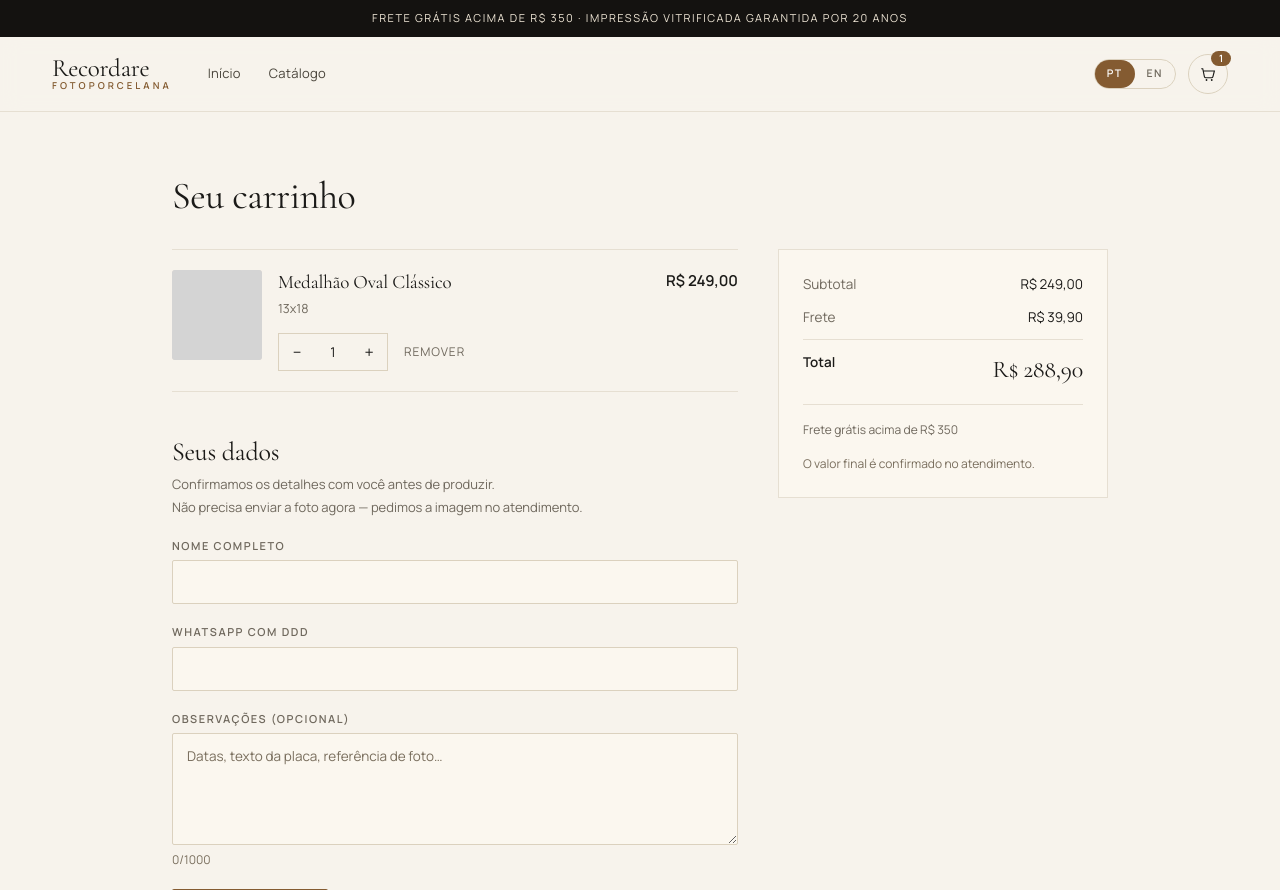
Test: checkout › esconde o atalho do WhatsApp quando o número não está configurado
The width and height of the screenshot is (1280, 890).
Type "Maria Silva" into the field labelled "Nome completo" at [455, 582], box [172, 560, 738, 604]
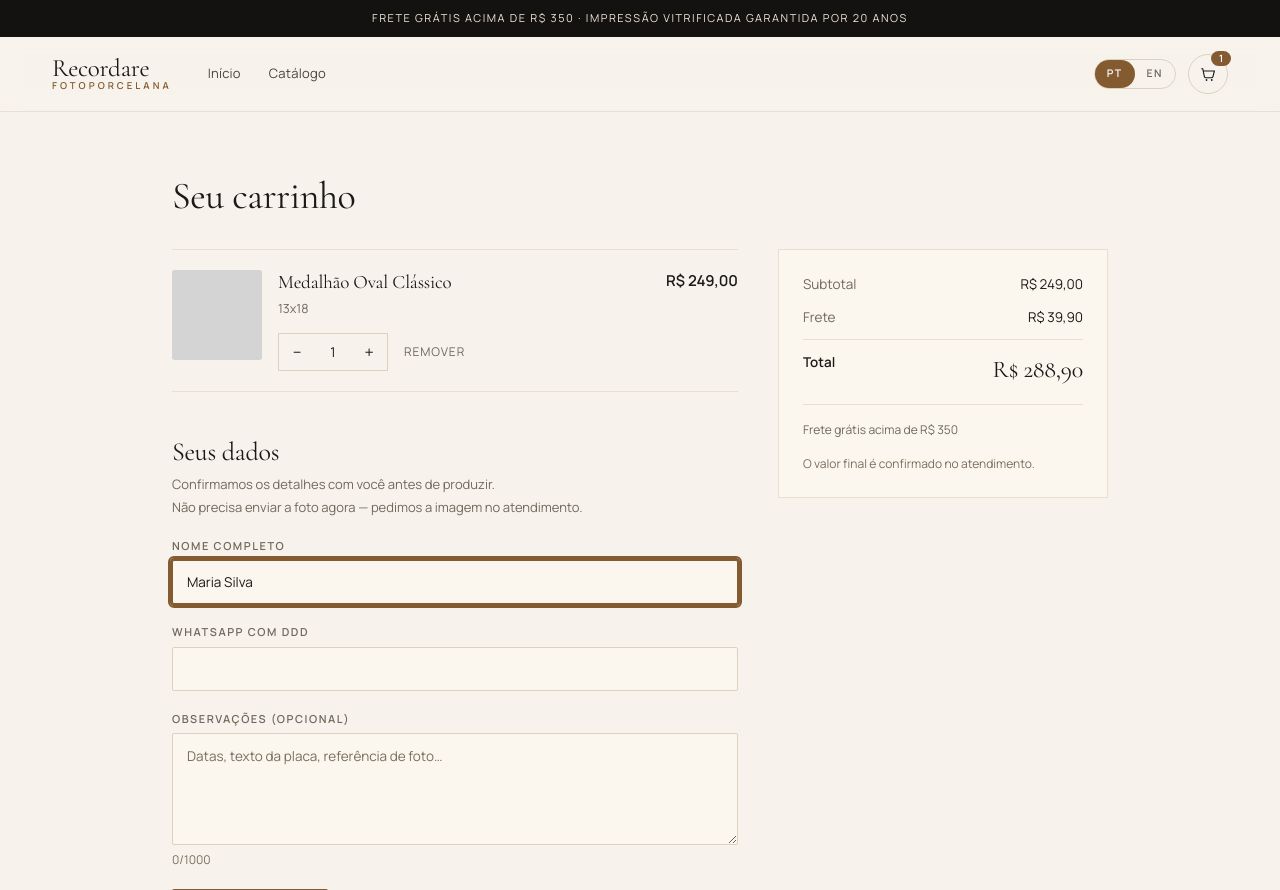
Type "44999990000" into the field labelled "WhatsApp com DDD" at [455, 669], box [172, 647, 738, 691]
(page scrolled)
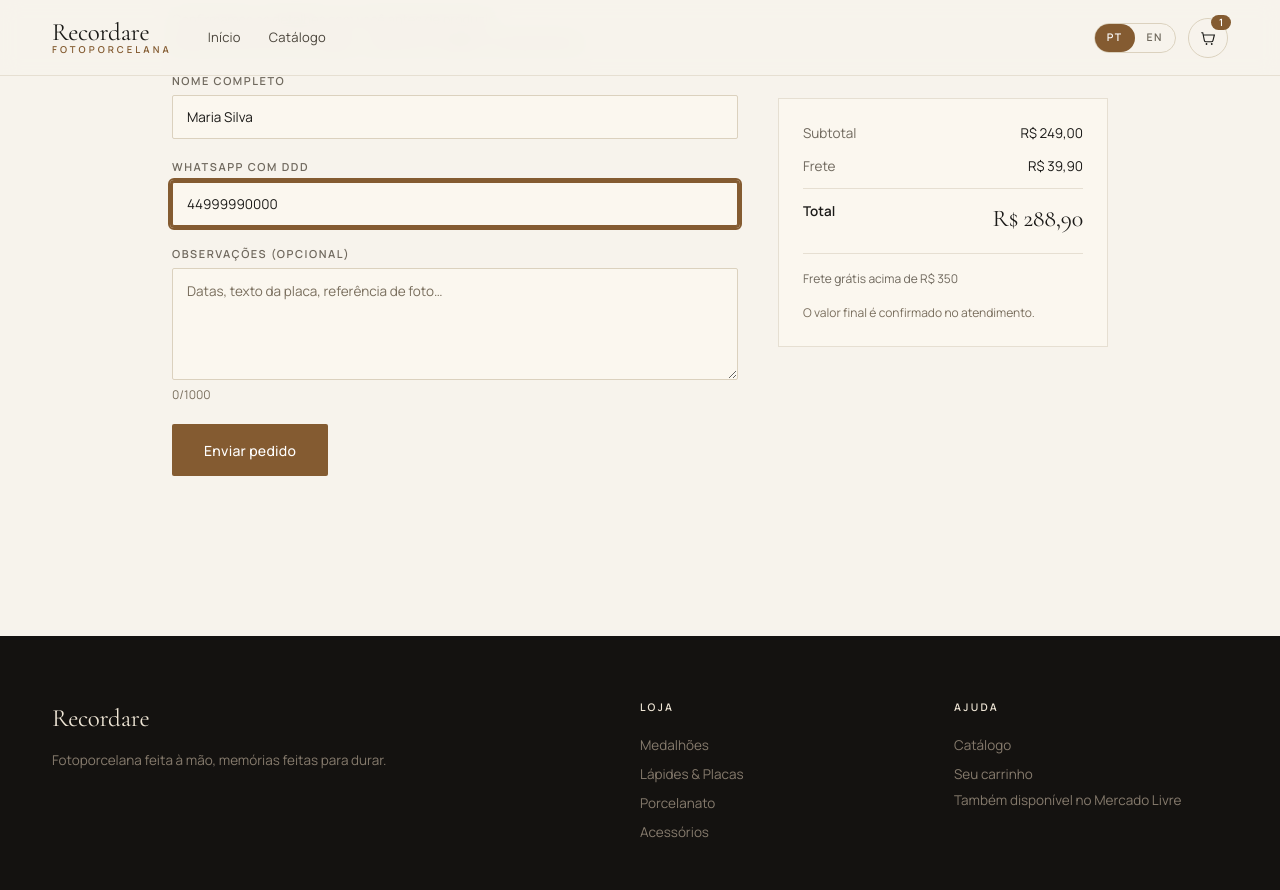
Click the button "Enviar pedido" at [250, 450], box [172, 424, 328, 476]
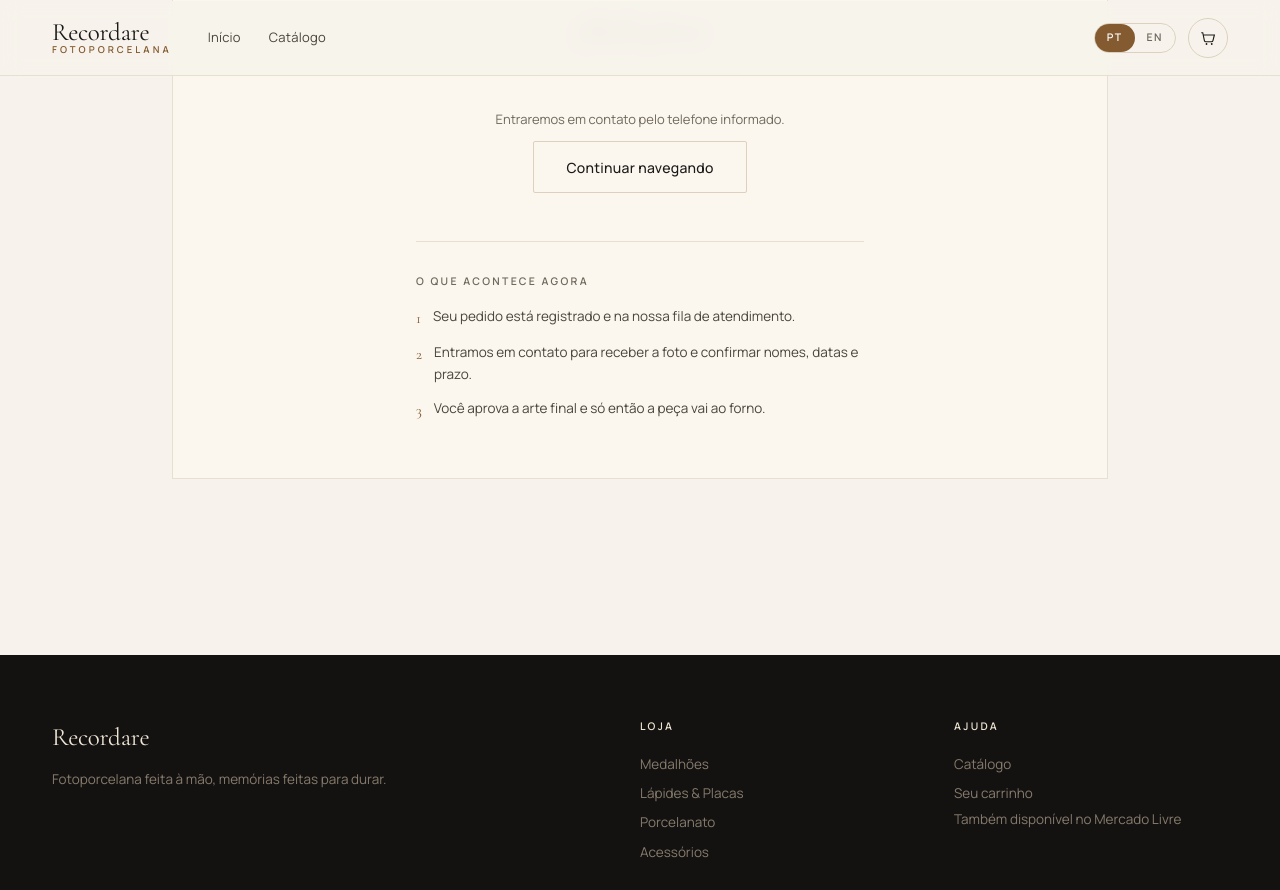
expect the text "Entraremos em contato pelo telefone informado." is shown: met, box [496, 110, 784, 128]
